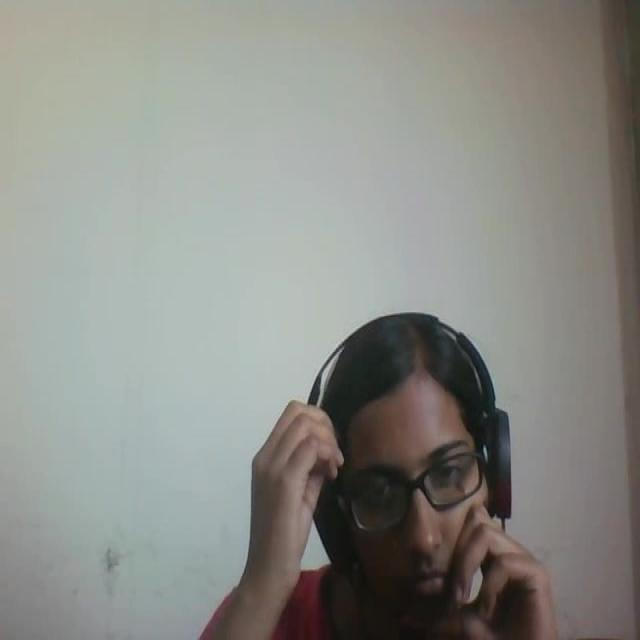Bored: (272, 308, 559, 640)
